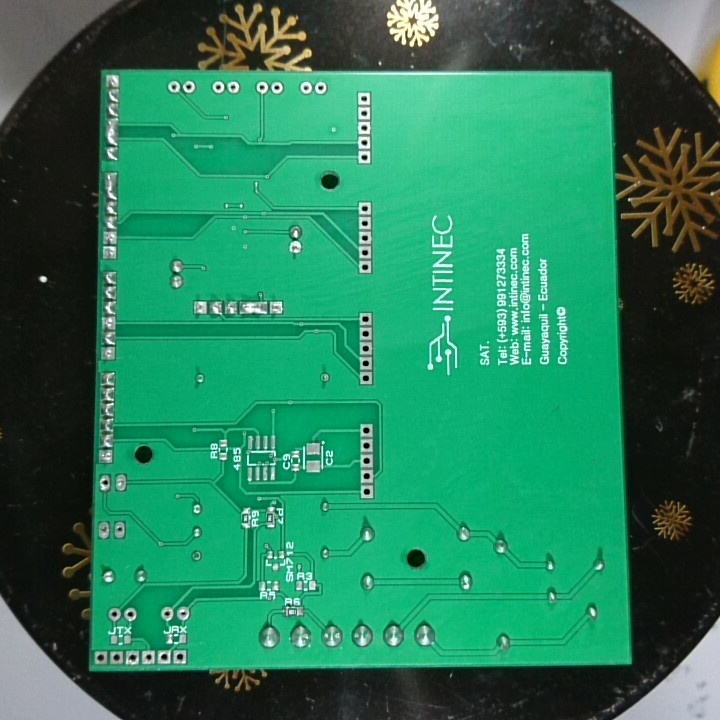F: (97, 474, 113, 497), (269, 298, 289, 315), (191, 298, 208, 318), (101, 244, 119, 262), (161, 604, 176, 625), (113, 520, 127, 542), (188, 548, 205, 566), (176, 605, 193, 623), (99, 346, 117, 363), (359, 354, 376, 371), (359, 423, 376, 440), (181, 80, 199, 96), (359, 482, 375, 500), (358, 147, 371, 169), (98, 518, 111, 540), (173, 647, 188, 666), (127, 647, 140, 668), (225, 79, 241, 96), (358, 338, 374, 355), (359, 371, 375, 388), (104, 73, 121, 89), (164, 80, 182, 95), (312, 80, 327, 98), (122, 605, 137, 623), (113, 472, 125, 494), (287, 238, 303, 254), (103, 313, 119, 329), (255, 80, 270, 97), (358, 213, 373, 230), (357, 229, 372, 246), (358, 258, 373, 275), (358, 436, 373, 453), (359, 467, 374, 484), (99, 450, 116, 465), (357, 104, 372, 120), (358, 325, 374, 340), (356, 89, 370, 106), (359, 452, 373, 469), (109, 649, 123, 666), (102, 232, 119, 246), (358, 132, 371, 150), (358, 245, 373, 260), (269, 80, 283, 96), (298, 80, 312, 96), (359, 310, 373, 326), (141, 649, 155, 665), (158, 649, 171, 666), (319, 368, 331, 386), (211, 80, 225, 95), (357, 119, 370, 135), (93, 649, 107, 663), (107, 606, 121, 620), (358, 200, 371, 215)
P: (103, 115, 123, 146), (238, 299, 268, 318), (102, 171, 119, 200)
